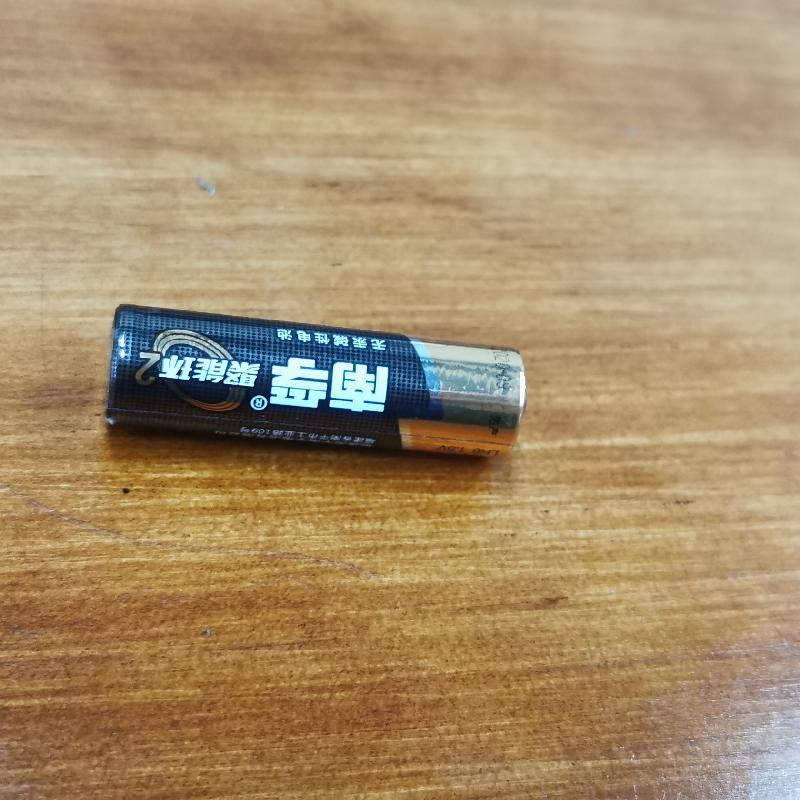battery: (102, 290, 534, 473)
